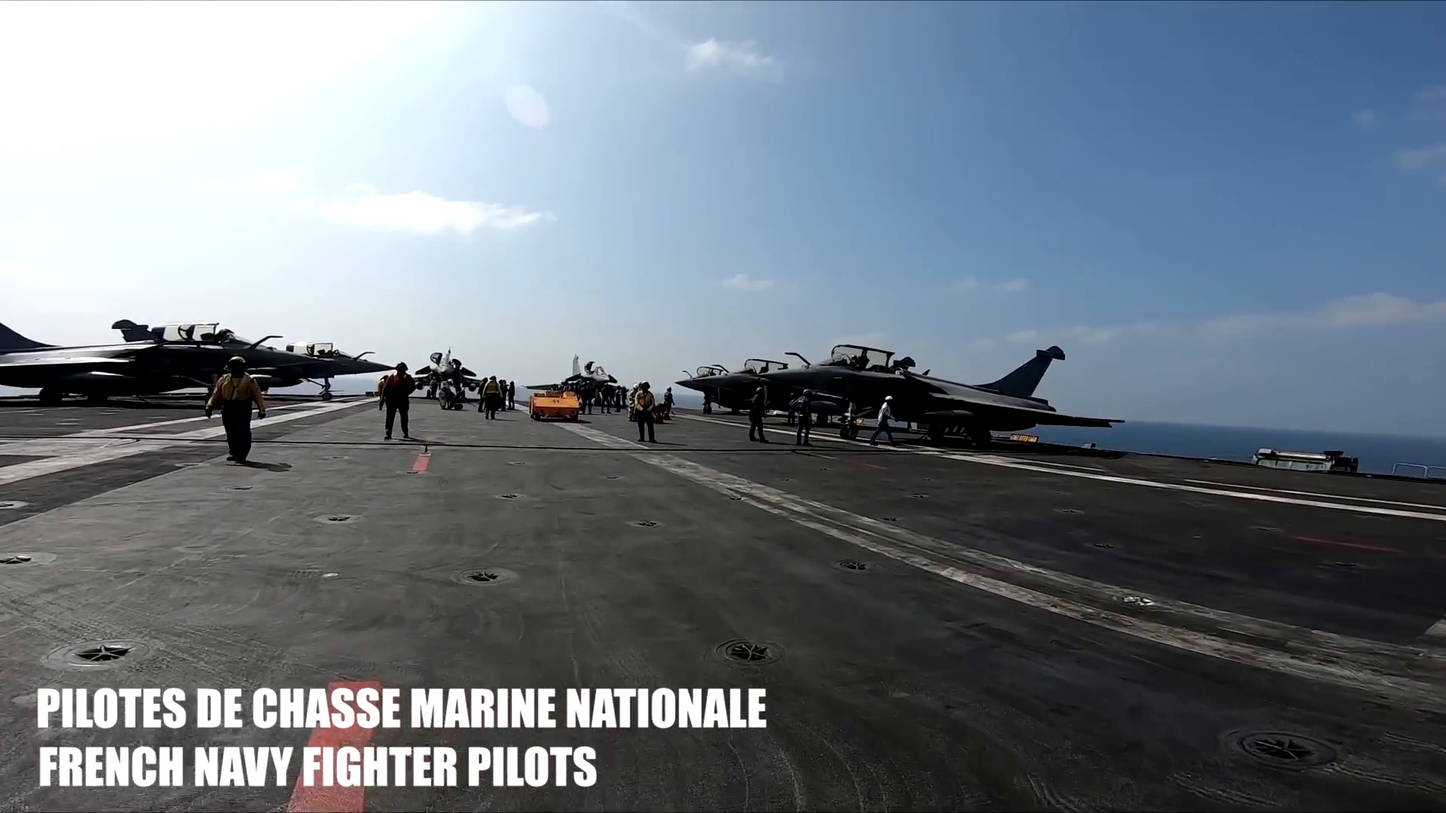Rafale: (755, 345, 1121, 444), (0, 304, 323, 408), (397, 347, 499, 404), (525, 356, 630, 407)
